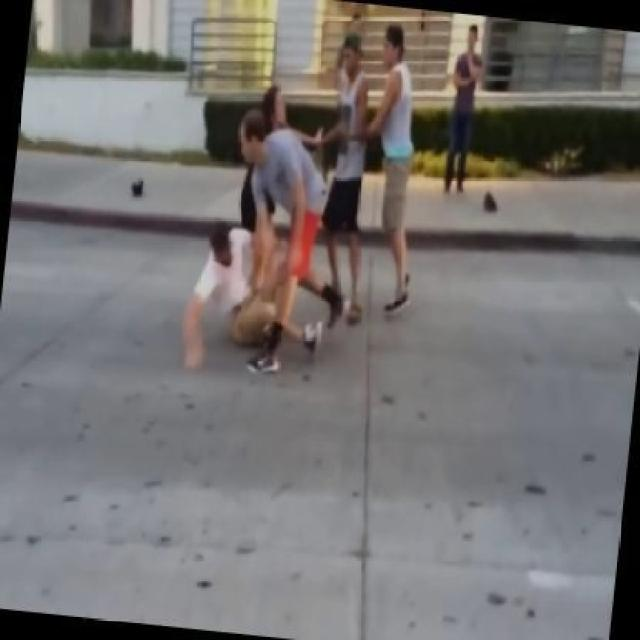fight: (167, 113, 328, 384)
non-fight: (311, 35, 369, 328), (423, 20, 503, 195), (374, 21, 416, 308)
